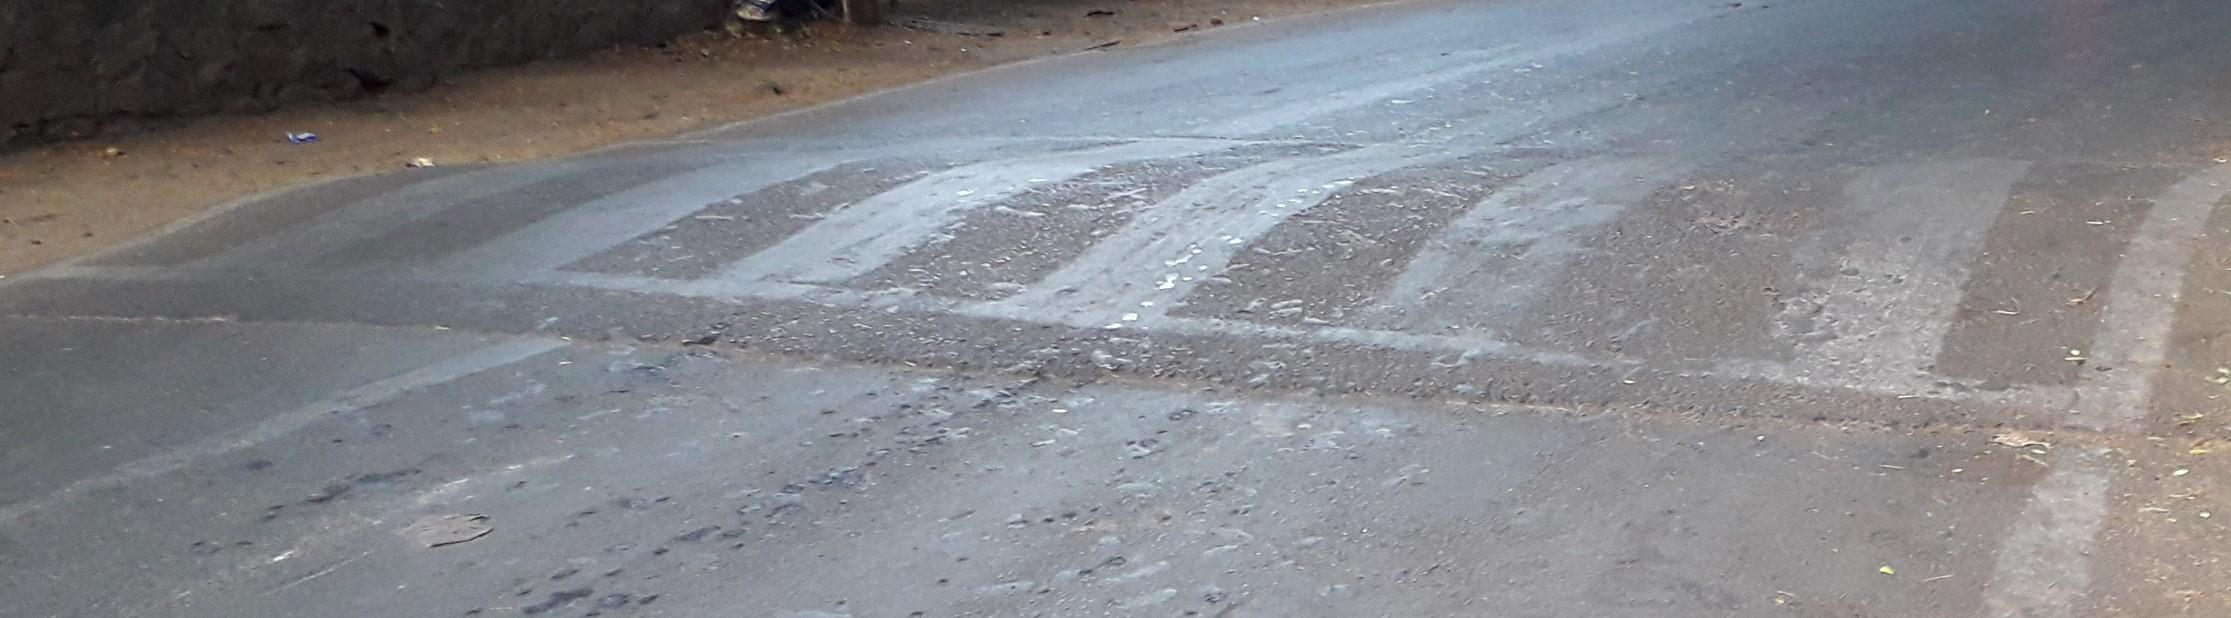speed-bump: (8, 135, 2221, 442)
